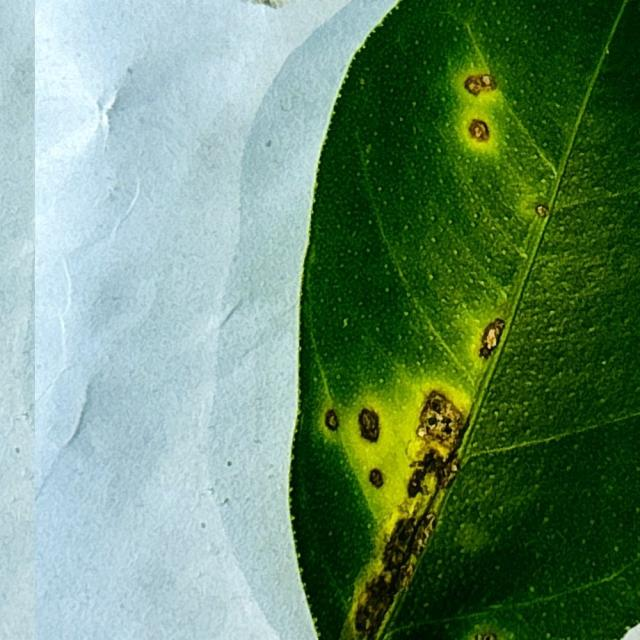Anthracnose: (344, 393, 403, 476), (408, 385, 471, 456), (459, 72, 506, 159), (381, 507, 434, 575), (477, 287, 521, 360), (513, 183, 549, 225)
Lemon: (21, 0, 639, 639)
